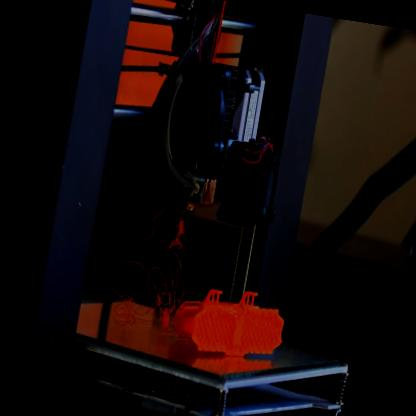fail: (107, 201, 194, 334)
